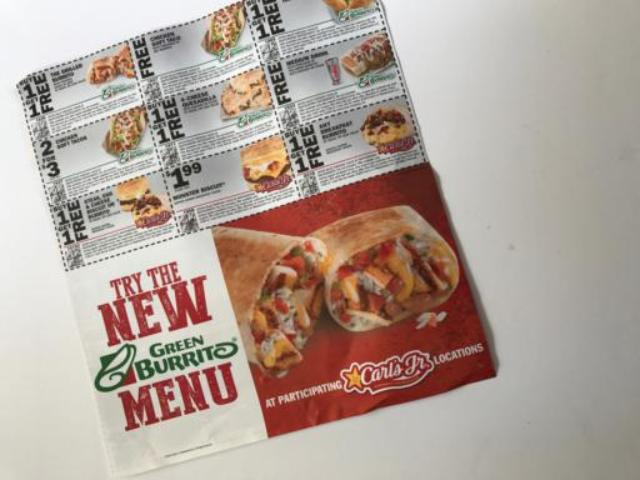cardboard paper: (16, 0, 492, 474)
